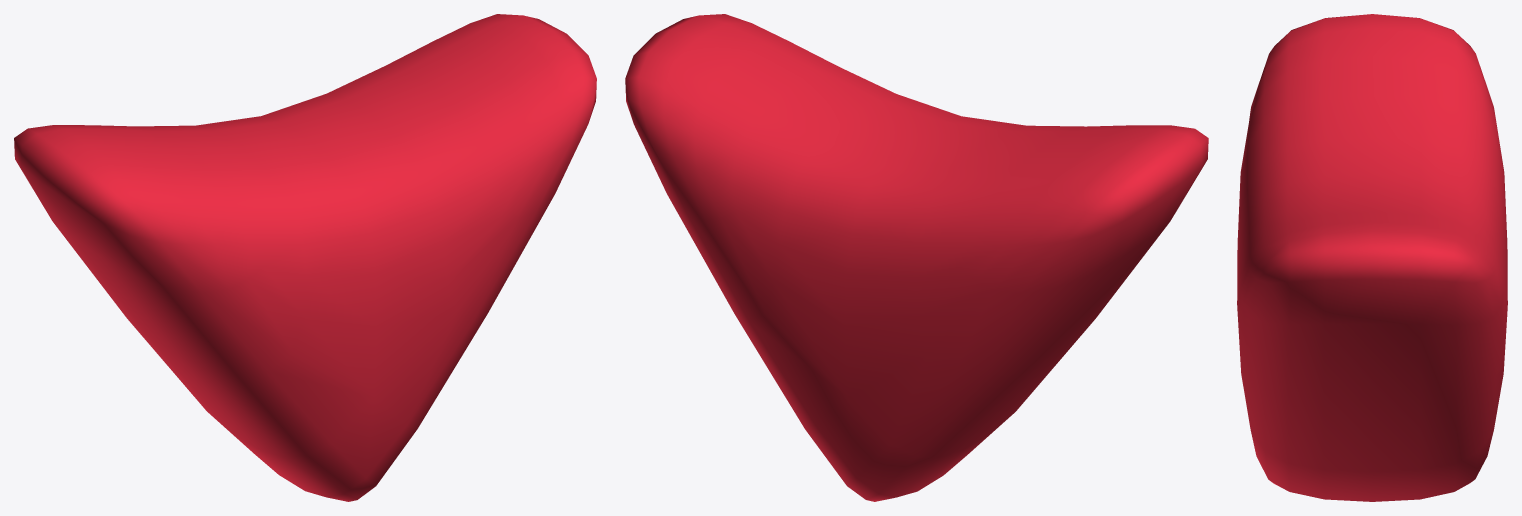
The model's file is indicator 2.fbx.
3 views of the same model, side by side, from view 1: azimuth 30°, elevation 25°; view 2: azimuth 150°, elevation 25°; view 3: azimuth 270°, elevation 25° (orthographic). The views are drawn at different scales.
Parts seen in each view (by area): view 1: Cube.001; view 2: Cube.001; view 3: Cube.001.
Part boxes in pixels (<box>): Cube.001: <box>14,14,596,501</box>; Cube.001: <box>625,14,1208,501</box>; Cube.001: <box>1237,14,1507,501</box>.
Bounding box in the file's own units: 1.46 × 1.03 × 0.6813.
